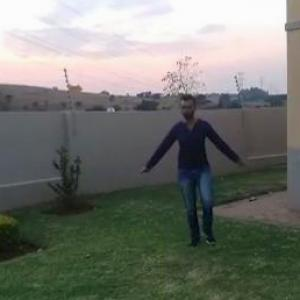land: (141, 92, 250, 262)
